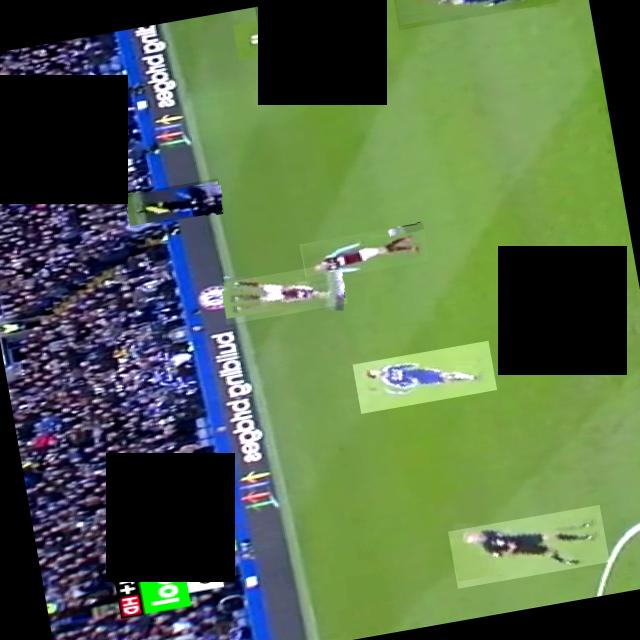referee: (446, 504, 608, 588), (123, 178, 223, 228)
soccer-player: (351, 341, 496, 414), (253, 0, 357, 82), (218, 262, 346, 324), (298, 222, 428, 282), (389, 0, 559, 30)
